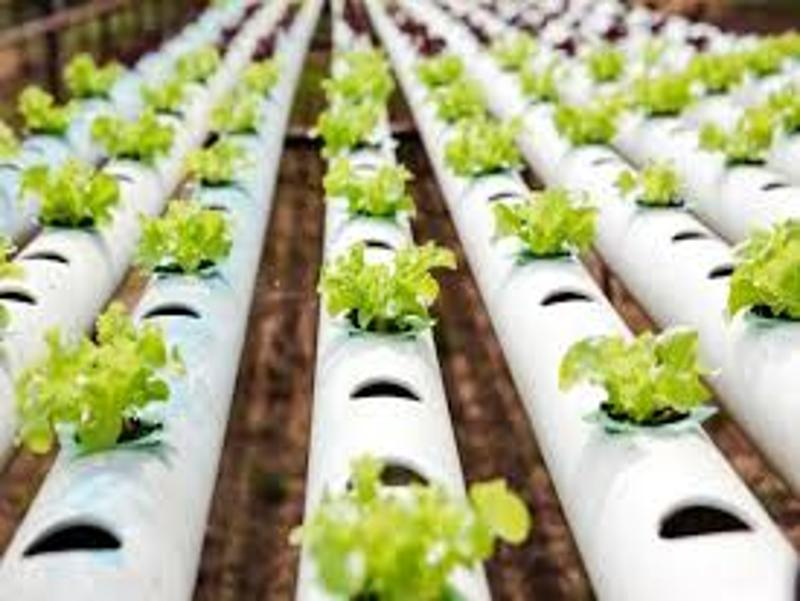green lettuce: (301, 459, 531, 601), (18, 298, 189, 458), (565, 323, 718, 423), (318, 238, 460, 327), (490, 189, 600, 257), (20, 159, 120, 230), (137, 199, 233, 271), (736, 216, 800, 316), (321, 158, 416, 217), (698, 103, 778, 163), (91, 107, 177, 160), (445, 119, 525, 174), (553, 96, 628, 147), (17, 83, 74, 135), (184, 141, 254, 182), (619, 159, 681, 202), (430, 76, 490, 117), (321, 107, 378, 147), (215, 92, 262, 130), (143, 76, 192, 109)
